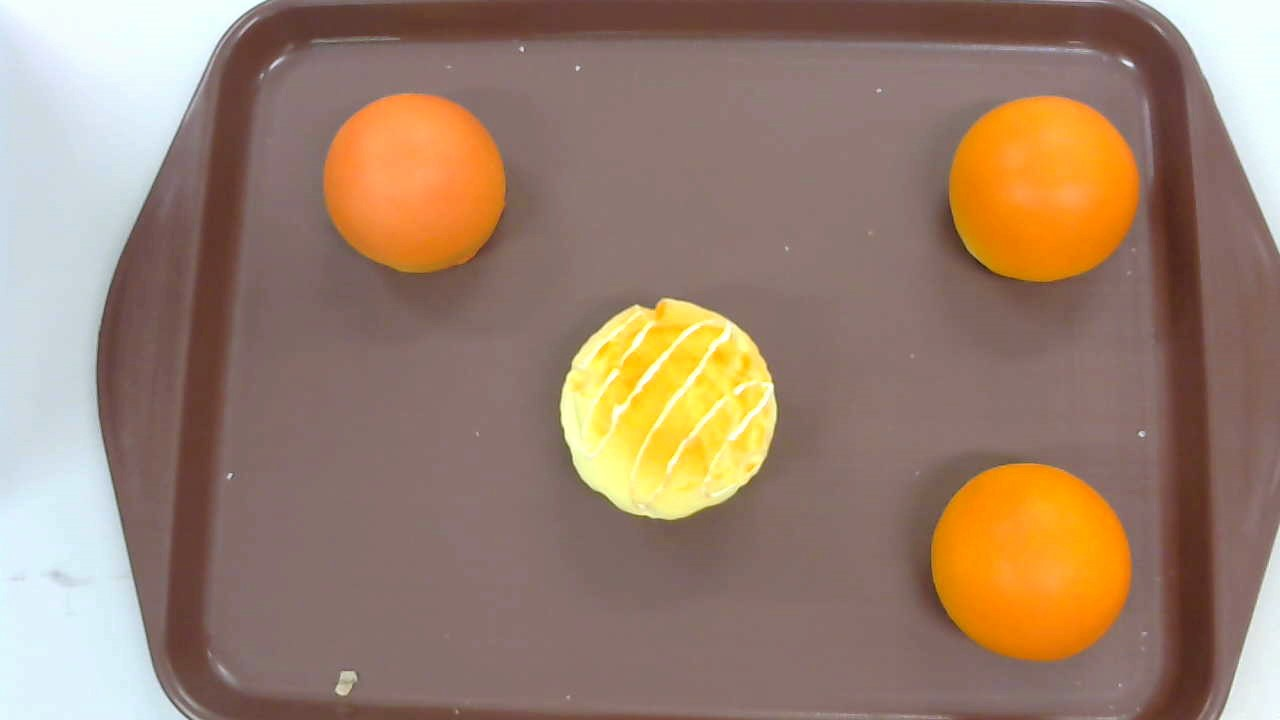bun: (932, 463, 1133, 662), (949, 94, 1141, 282), (322, 92, 506, 275)
cupcake: (560, 297, 778, 520)
